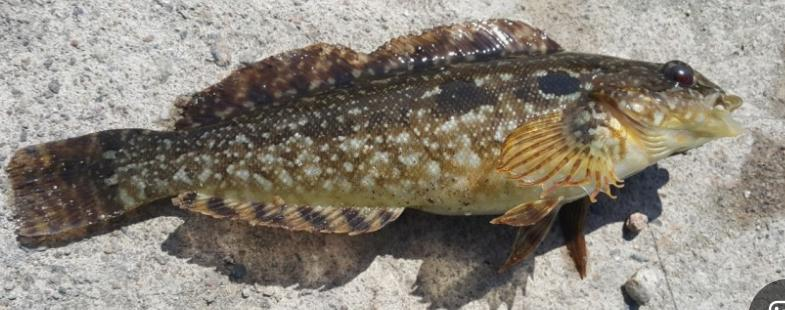fish: (7, 19, 742, 277)
